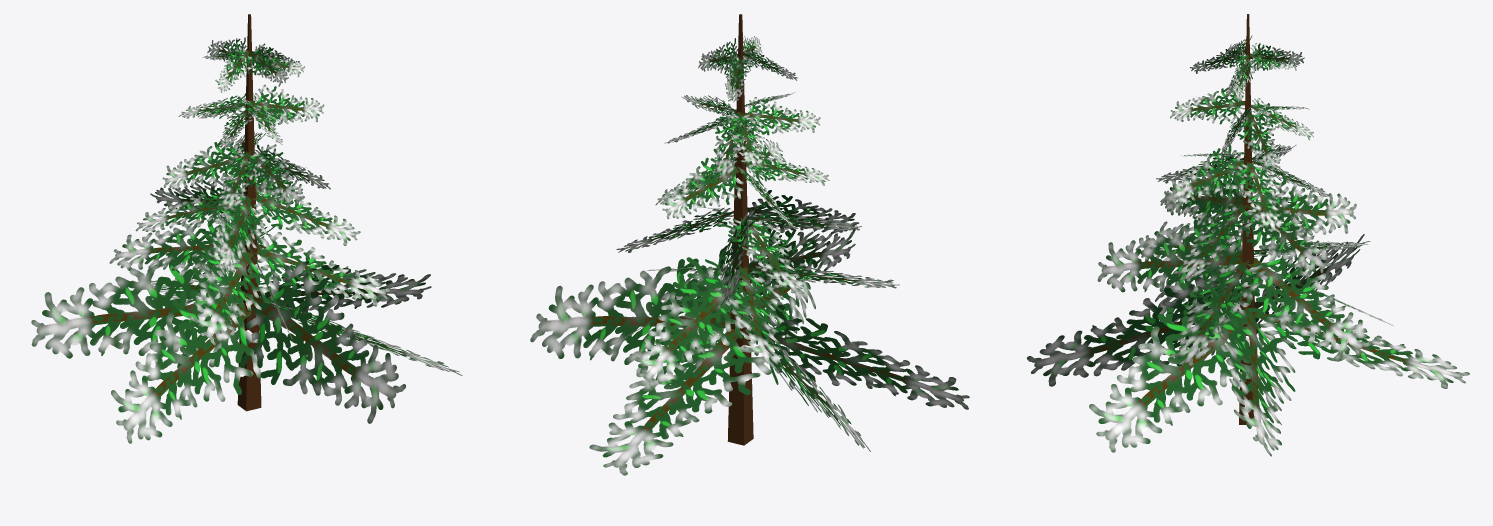
Rendered from tree3_LOD1.fbx.
The picture shows the model from 3 angles, left to right: view 1: azimuth 30°, elevation 25°; view 2: azimuth 150°, elevation 25°; view 3: azimuth 270°, elevation 25°; orthographic projection. The views are drawn at different scales.
Parts seen in each view (by area): view 1: Leaves_LOD1, Tree3_LOD1; view 2: Leaves_LOD1, Tree3_LOD1; view 3: Leaves_LOD1, Tree3_LOD1.
Part boxes in pixels (<box>): Leaves_LOD1: <box>31,37,462,443</box>; Tree3_LOD1: <box>237,14,261,411</box>; Leaves_LOD1: <box>530,36,969,475</box>; Tree3_LOD1: <box>727,14,753,445</box>; Leaves_LOD1: <box>1026,35,1469,456</box>; Tree3_LOD1: <box>1239,14,1254,424</box>.
Bounding box in the file's own units: 971 × 926 × 894.
